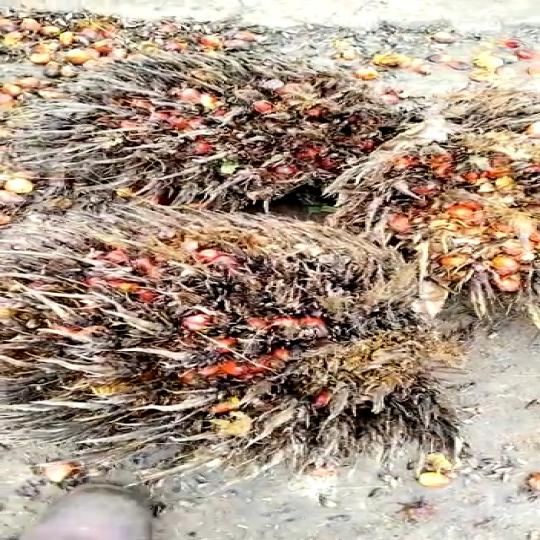terlalu masak: (0, 211, 466, 474), (28, 59, 417, 211), (348, 112, 540, 308)
